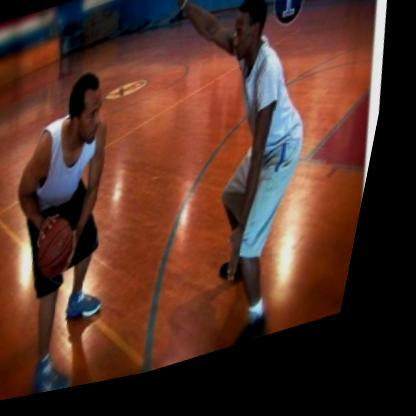basketball: (34, 208, 100, 291)
